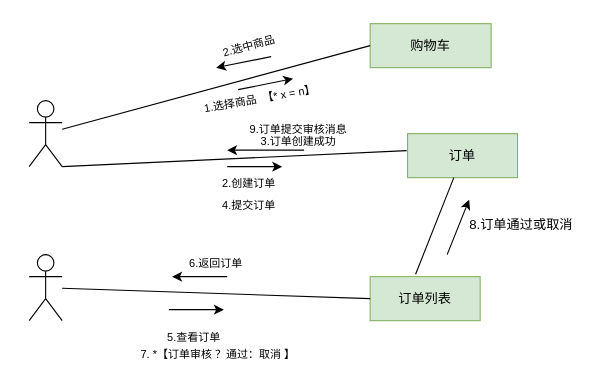
This 606x389 diagram has some shape labels left out. The box of each missing label's shape, as (x1, y1, x2, y2) in pixels:
客户: (28, 100, 62, 167)
销售人员: (28, 254, 62, 321)
